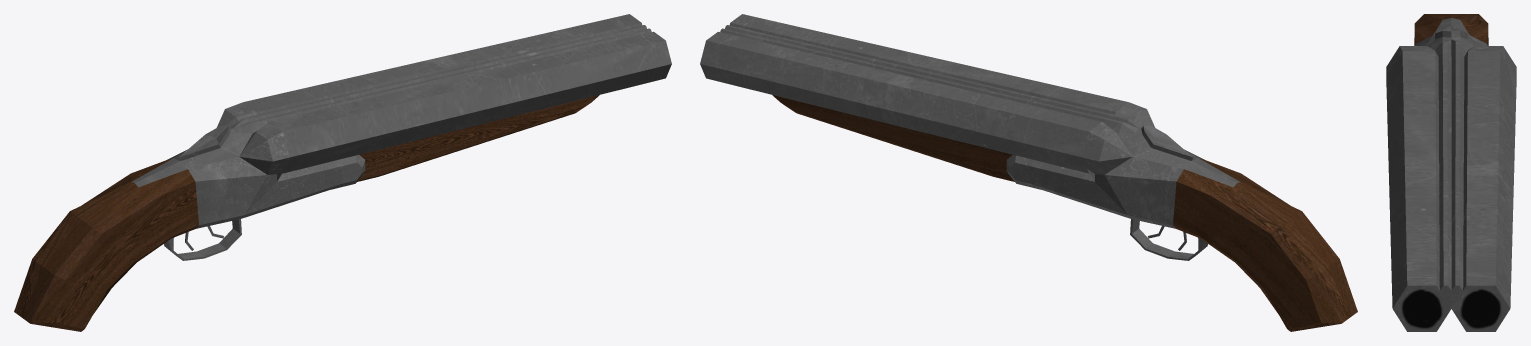
File: Sawed Off Shotgun.fbx
3 renders of one model, left to right at view 1: azimuth 30°, elevation 25°; view 2: azimuth 150°, elevation 25°; view 3: azimuth 270°, elevation 25°, orthographic. The views are drawn at different scales.
Visible parts, largest first — view 1: Circle.001, Plane, Plane.001, Plane.002, Plane.005; view 2: Circle.001, Plane, Plane.001, Plane.002, Plane.005; view 3: Circle.001, Plane, Plane.005.
Boxes of the visible parts, bbox=[...] form: Circle.001: bbox=[243, 14, 671, 173]; Plane: bbox=[14, 102, 365, 331]; Plane.001: bbox=[357, 95, 599, 181]; Plane.002: bbox=[164, 219, 241, 260]; Plane.005: bbox=[178, 125, 230, 160]; Circle.001: bbox=[700, 14, 1128, 173]; Plane: bbox=[1006, 102, 1357, 331]; Plane.001: bbox=[772, 95, 1014, 181]; Plane.002: bbox=[1130, 219, 1207, 260]; Plane.005: bbox=[1141, 125, 1193, 160]; Circle.001: bbox=[1386, 51, 1516, 331]; Plane: bbox=[1386, 14, 1516, 76]; Plane.005: bbox=[1435, 26, 1467, 39].
Size of the model in its own units: 68.46 by 17.02 by 10.14.
3 materials, 3 textured.
